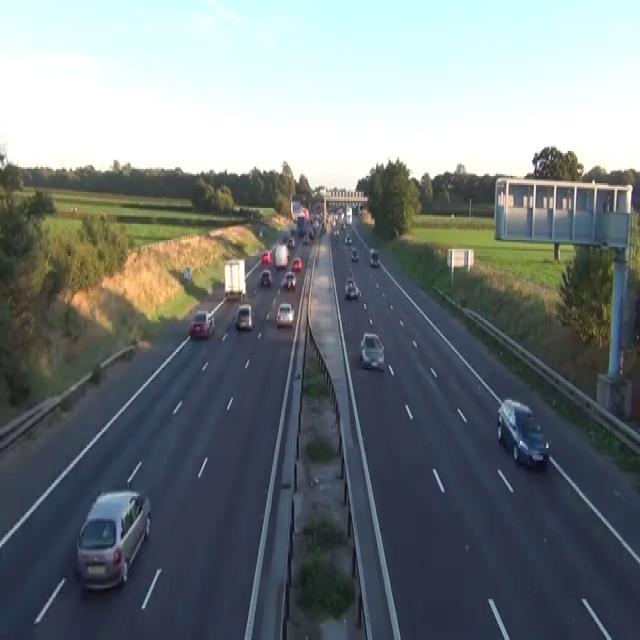Car: (76, 487, 151, 592), (496, 398, 549, 468), (359, 330, 384, 370), (188, 309, 214, 338), (234, 304, 253, 331), (275, 302, 294, 327), (344, 277, 360, 299), (283, 270, 296, 288), (369, 247, 380, 267), (260, 268, 272, 286), (282, 233, 295, 249), (261, 249, 272, 265), (291, 256, 302, 270), (270, 244, 277, 262), (300, 206, 309, 219), (351, 246, 358, 262), (183, 267, 190, 281), (308, 226, 315, 238), (287, 237, 295, 247), (344, 234, 352, 243), (302, 233, 309, 243), (282, 233, 289, 243), (341, 220, 346, 230), (333, 228, 339, 236), (70, 206, 77, 212), (259, 228, 262, 236)
Truck: (224, 258, 246, 300), (274, 244, 289, 268), (290, 199, 301, 221), (346, 206, 352, 224)
